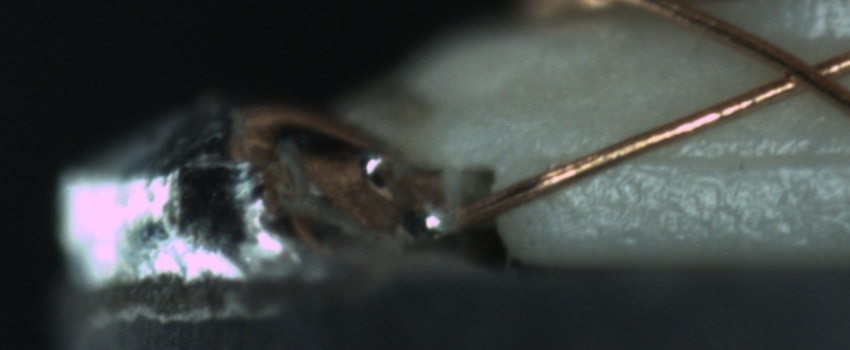CL: (756, 41, 847, 102)
DL: (567, 129, 848, 189)
